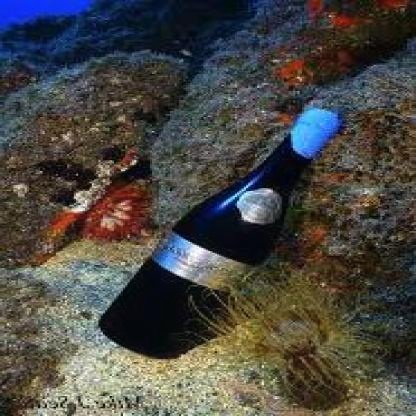gbottle: (101, 104, 344, 360)
